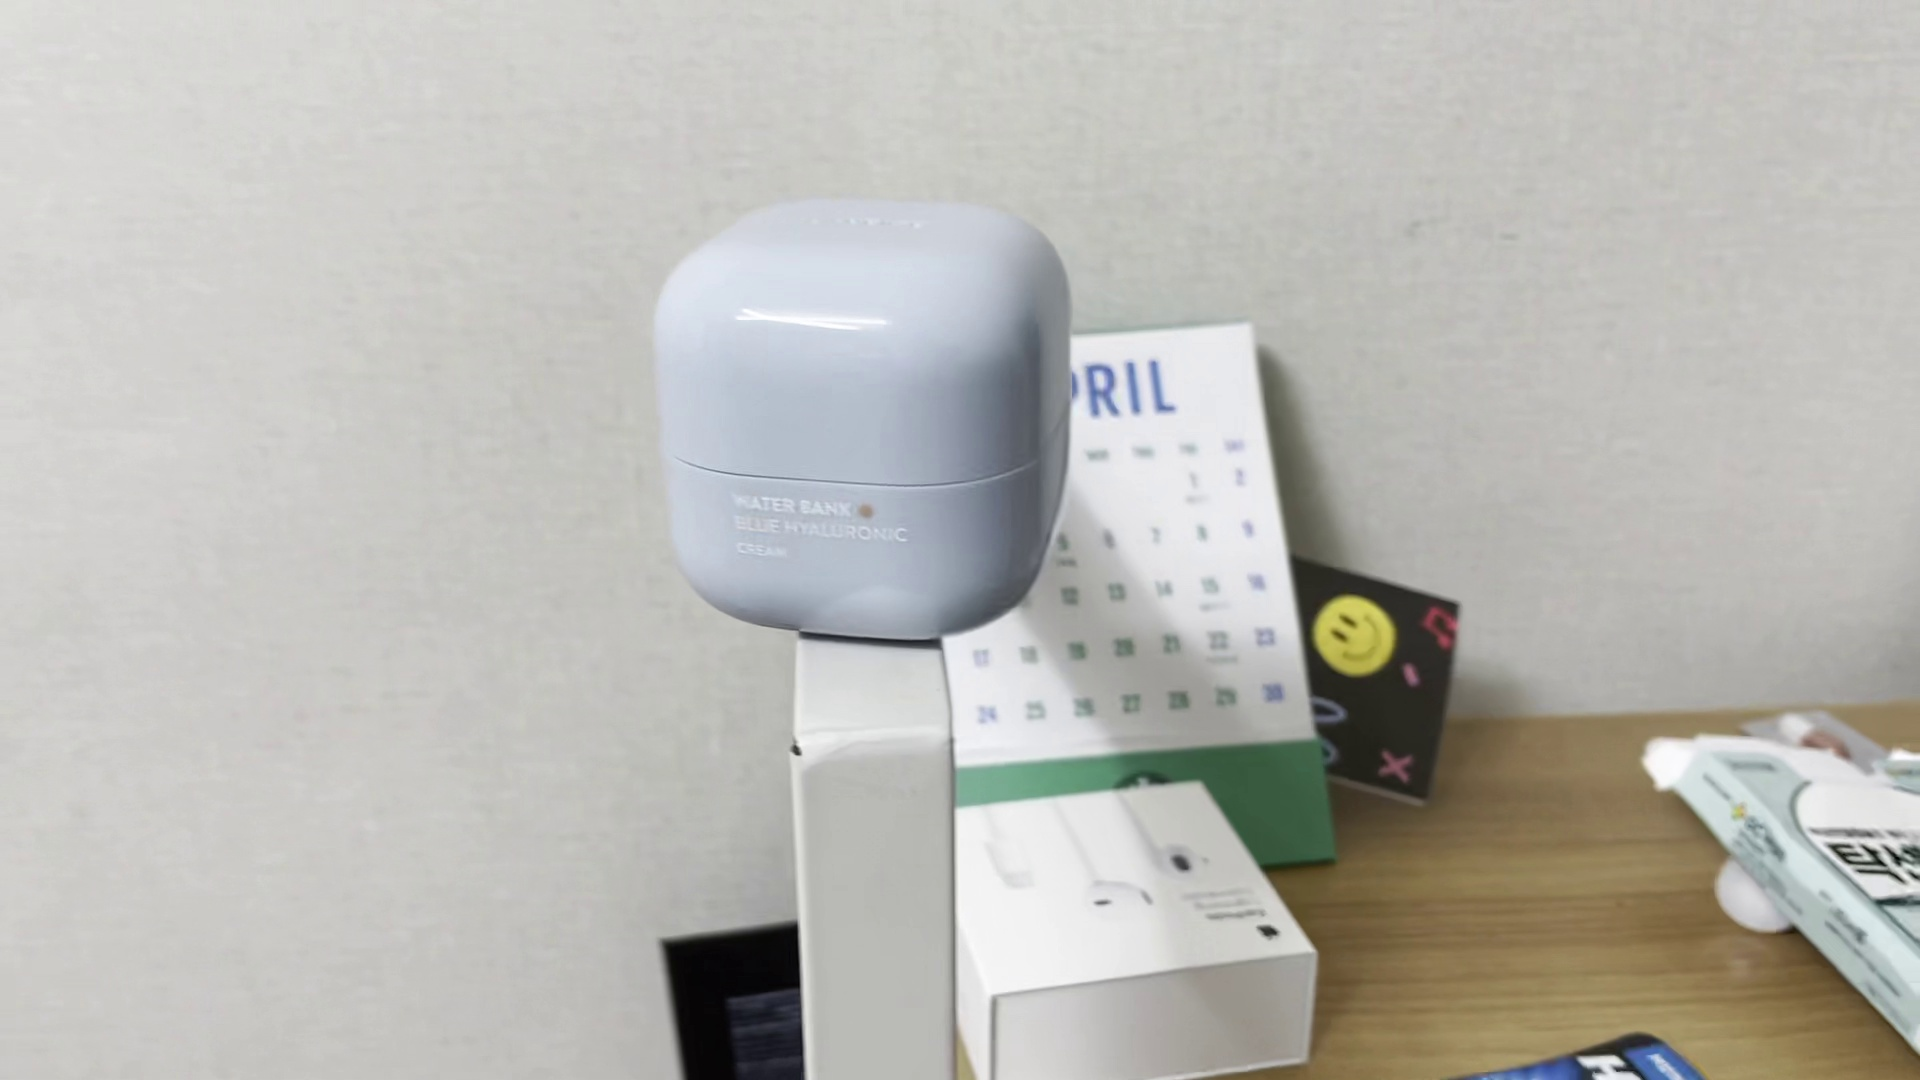cream: (663, 196, 1075, 636)
